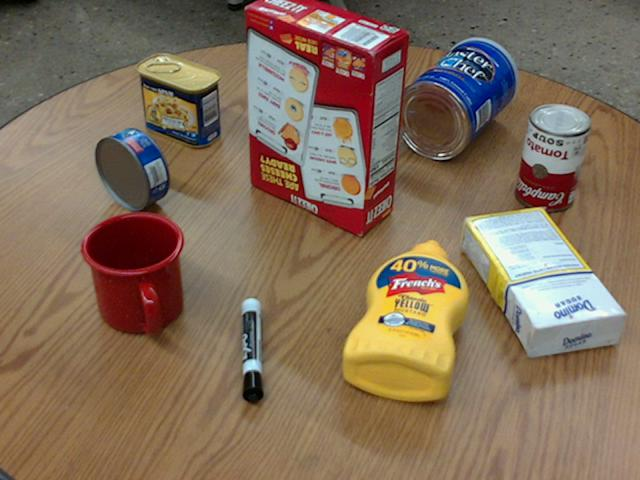cracker_box: (245, 0, 408, 233)
gelatin_box: (271, 60, 355, 116)
large_marker: (239, 297, 262, 403)
master_chef_can: (393, 37, 516, 158)
mug: (80, 212, 184, 334)
mustard_bottle: (340, 239, 467, 401)
potted_meat_can: (135, 54, 219, 146)
sugar_box: (459, 209, 626, 354)
tomato_soup_can: (513, 101, 589, 209)
tuna_fish_can: (95, 128, 168, 210)
